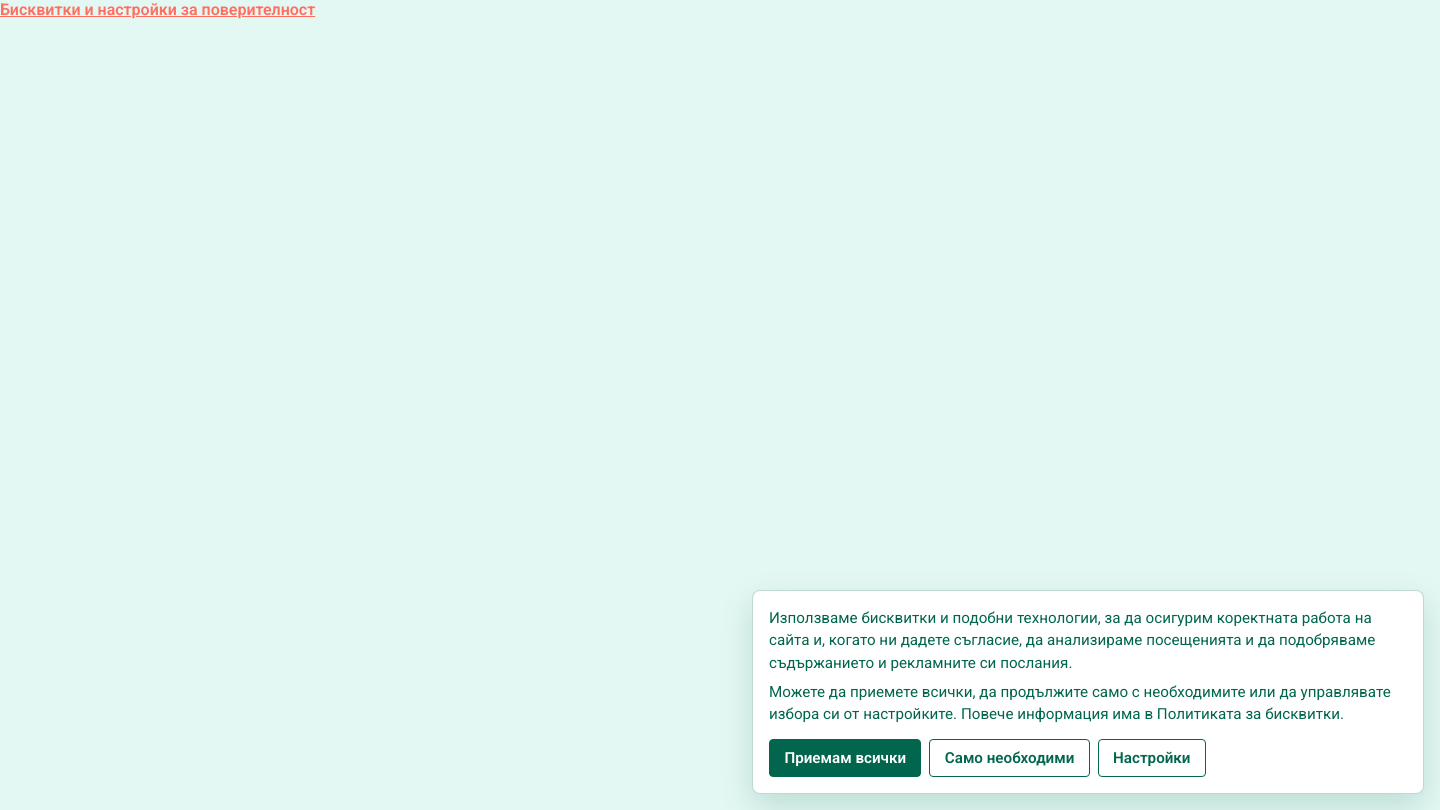
Scenario: Cookie consent UI › shows policy details as an inline section inside settings
Click the button "Настройки" at (1152, 758), box top-left (1098, 739), bottom-right (1206, 777)
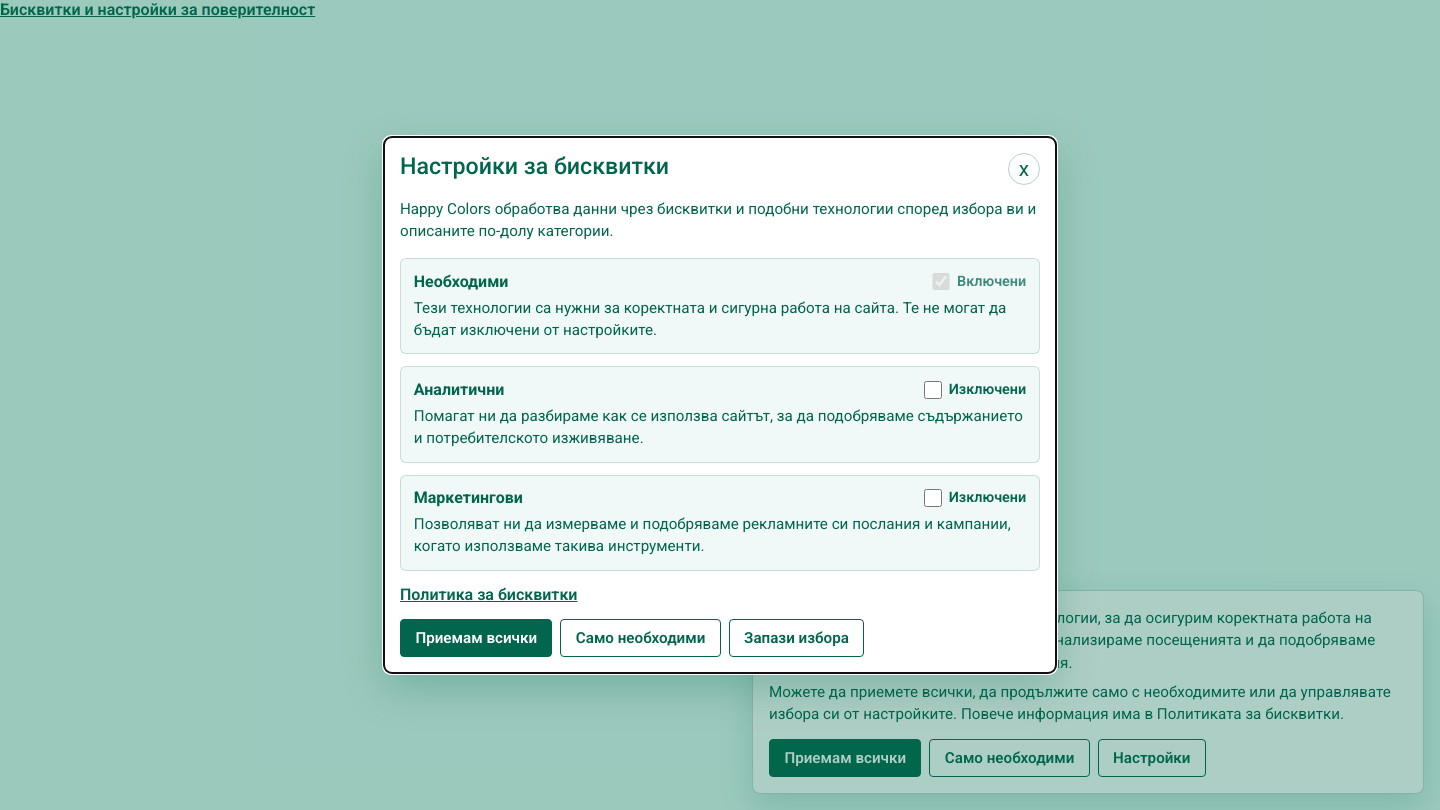
Click the button "Политика за бисквитки" at (489, 595), box top-left (400, 585), bottom-right (578, 604)
(page scrolled)
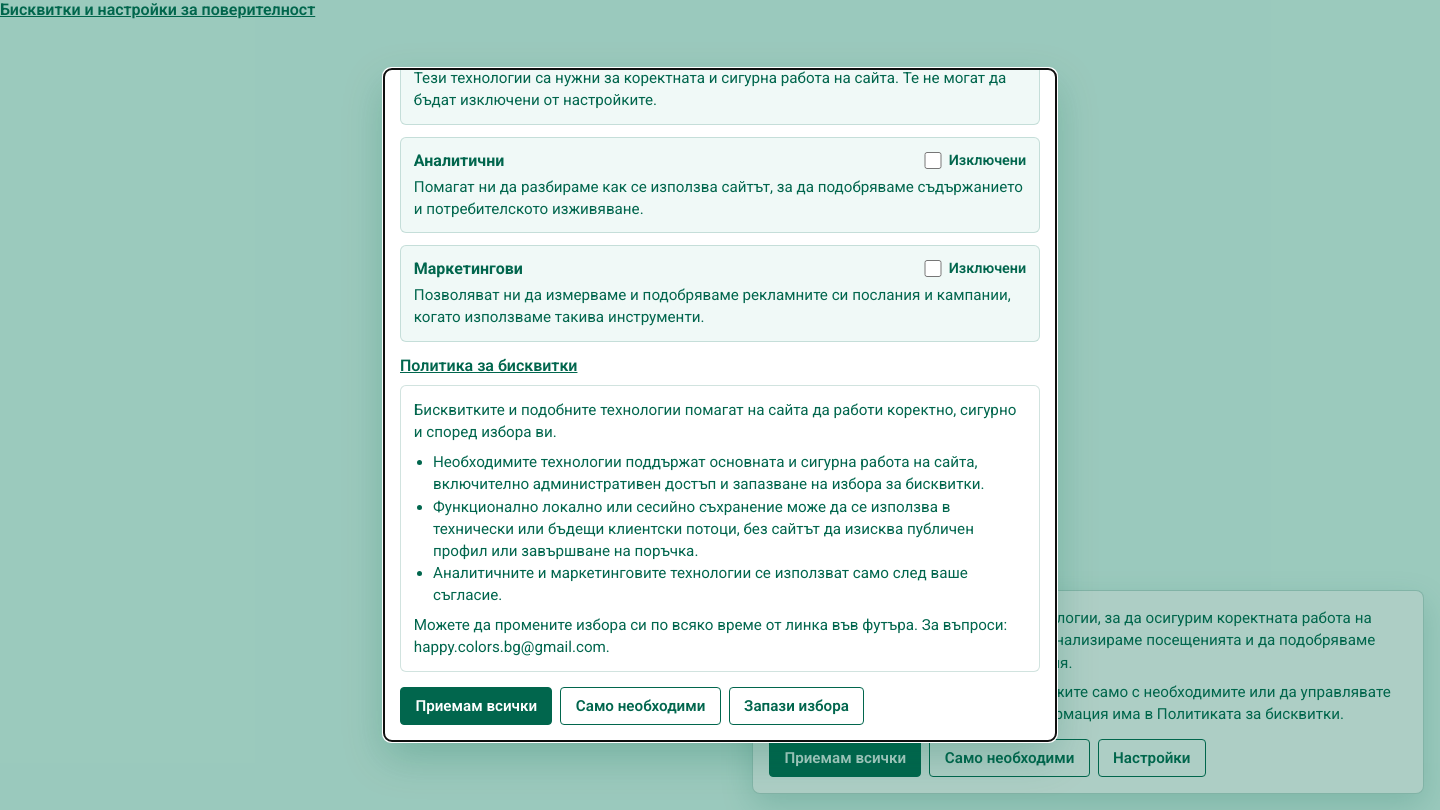
Now the element named "Политика за бисквитки" is shown, box top-left (400, 385), bottom-right (1040, 672)
Now the text "happy.colors.bg@gmail.com" is shown, box top-left (414, 616), bottom-right (1007, 656)
